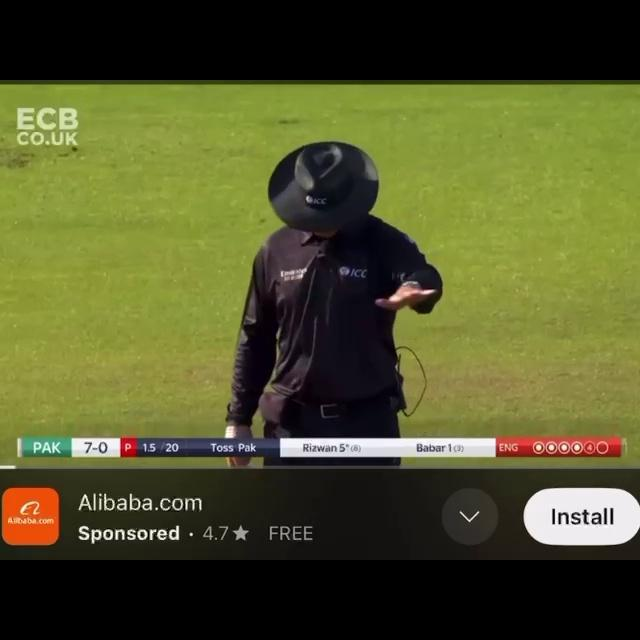umpire: (148, 105, 549, 423)
